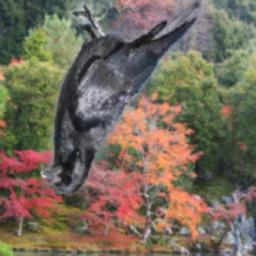Crow: (41, 0, 201, 194)
